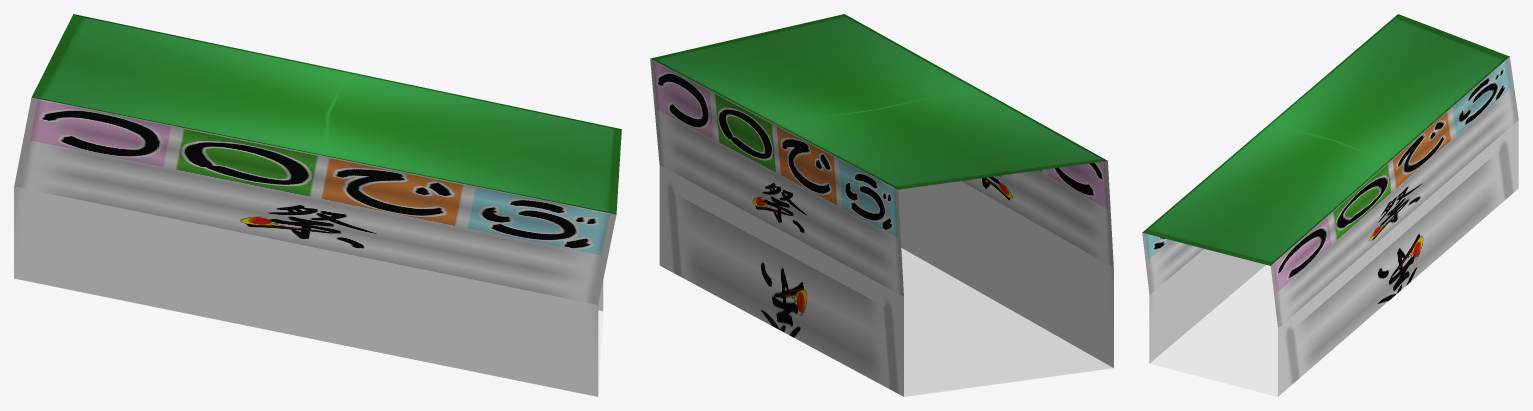
Rendered from CourseAki_Wall_R_7_10.fbx.
3 renders of one model, left to right at view 1: azimuth 30°, elevation 25°; view 2: azimuth 150°, elevation 25°; view 3: azimuth 270°, elevation 25°, orthographic. The views are drawn at different scales.
Parts seen in each view (by area): view 1: polySurface412; view 2: polySurface412; view 3: polySurface412.
Part boxes in pixels (x1,y1,x2,y2): polySurface412: [14, 14, 621, 396]; polySurface412: [650, 14, 1113, 396]; polySurface412: [1142, 14, 1518, 396].
Size of the model in its own units: 5.87 by 2.98 by 4.98.
Materials: 1 (1 with a texture image).
